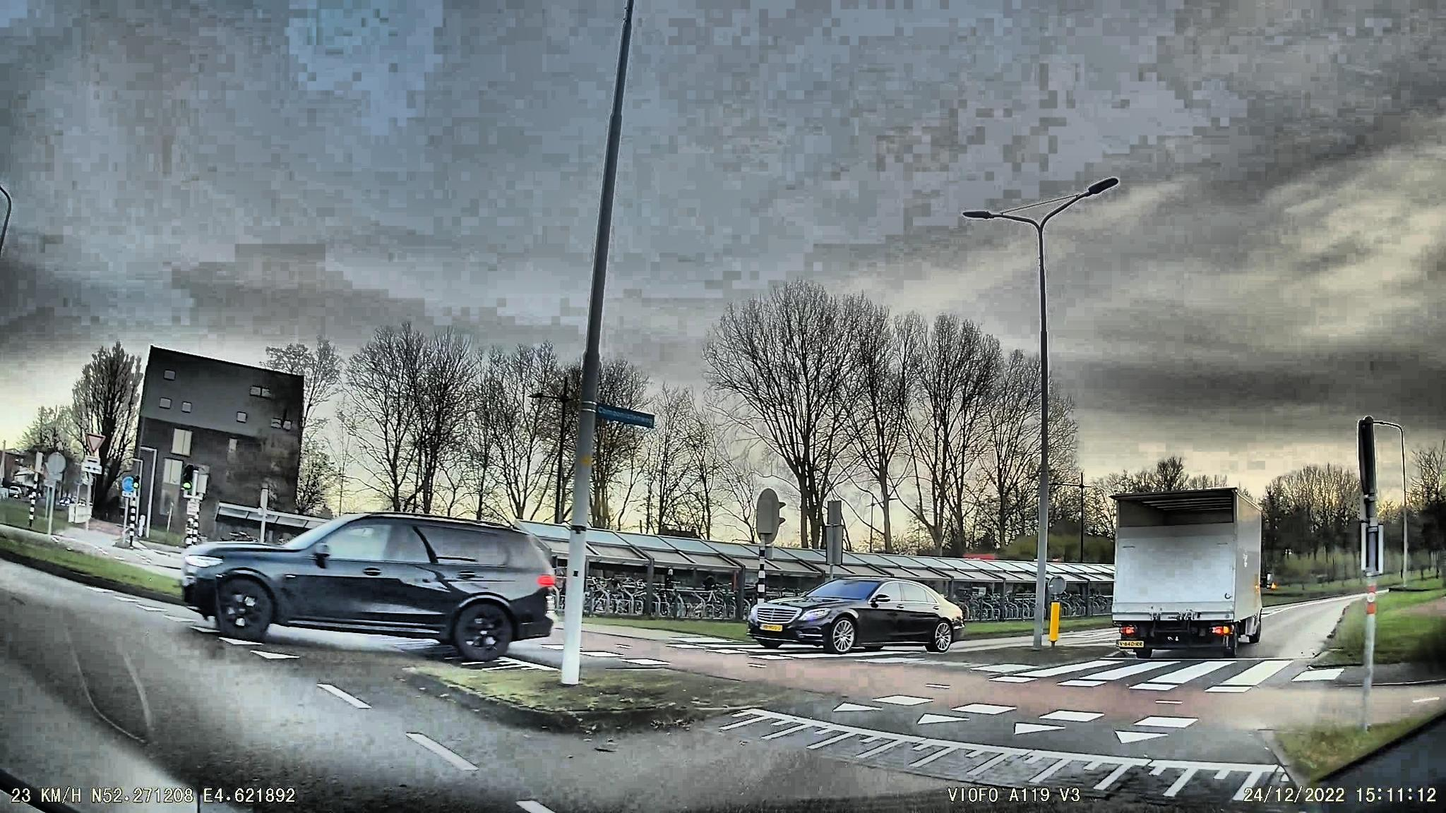Roads: (0, 562, 1446, 813)
